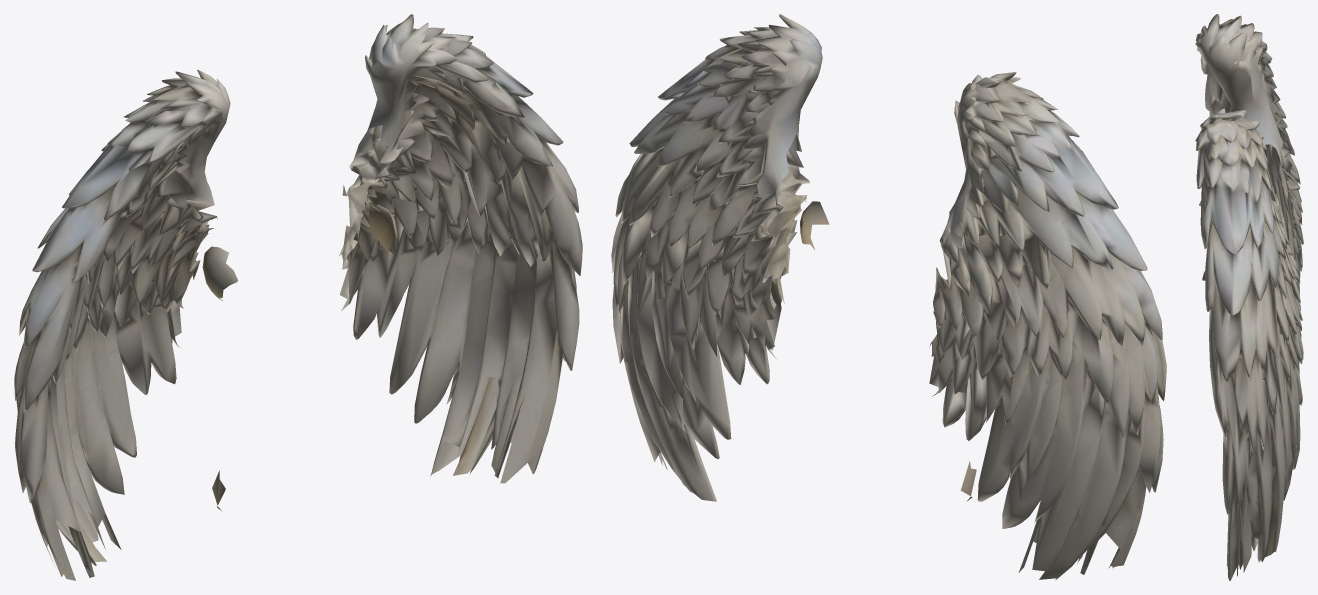
3 views of the same model, side by side, from view 1: azimuth 30°, elevation 25°; view 2: azimuth 150°, elevation 25°; view 3: azimuth 270°, elevation 25° (orthographic). The views are drawn at different scales.
Parts seen in each view (by area): view 1: material; view 2: material; view 3: material.
Part boxes in pixels (x1,y1,x2,y2): material: [14, 14, 582, 580]; material: [611, 14, 1166, 580]; material: [1195, 14, 1303, 580].
Bounding box in the file's own units: 1.06 × 0.8843 × 0.2072.
1 material, 1 textured.
